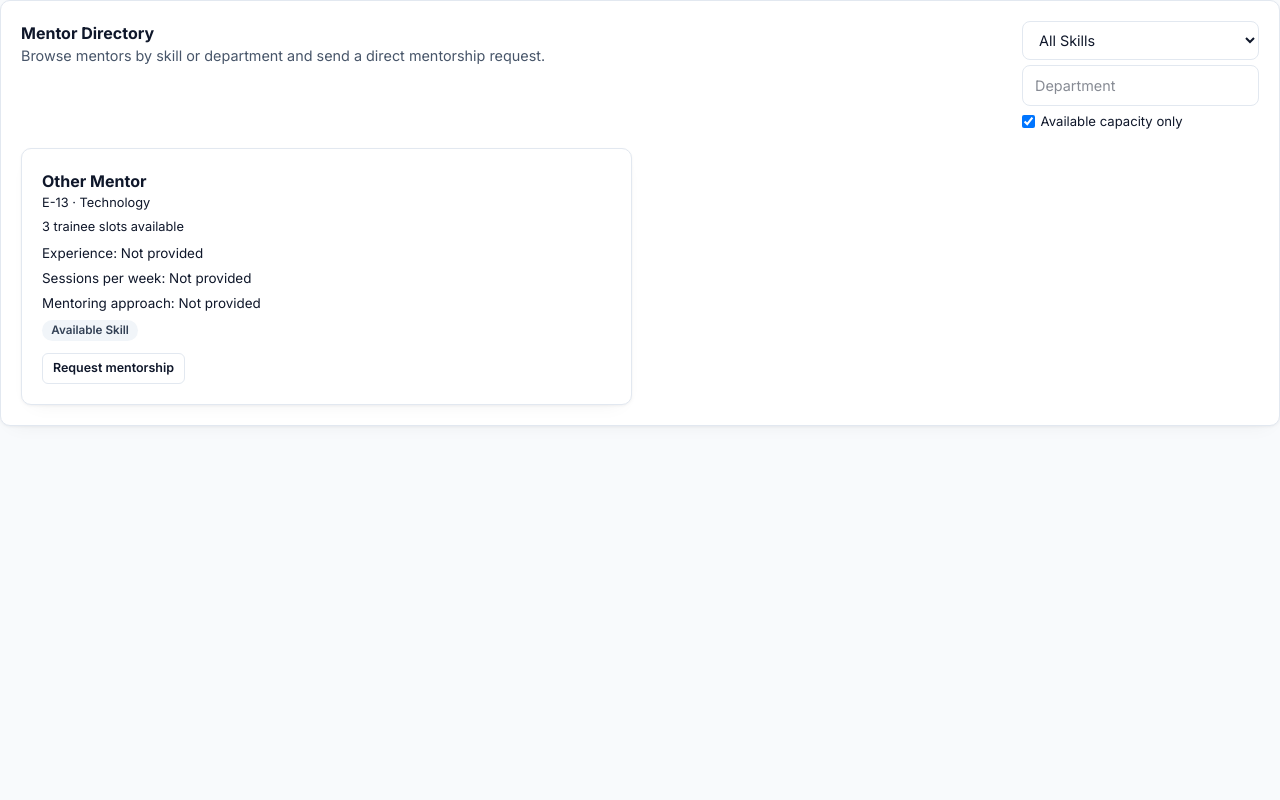
it: Mentor directory self-exclusion › sends an individual mentorship request to the selected mentor
Click the button "Request mentorship".
click(113, 369)  # box [42,353,185,384]
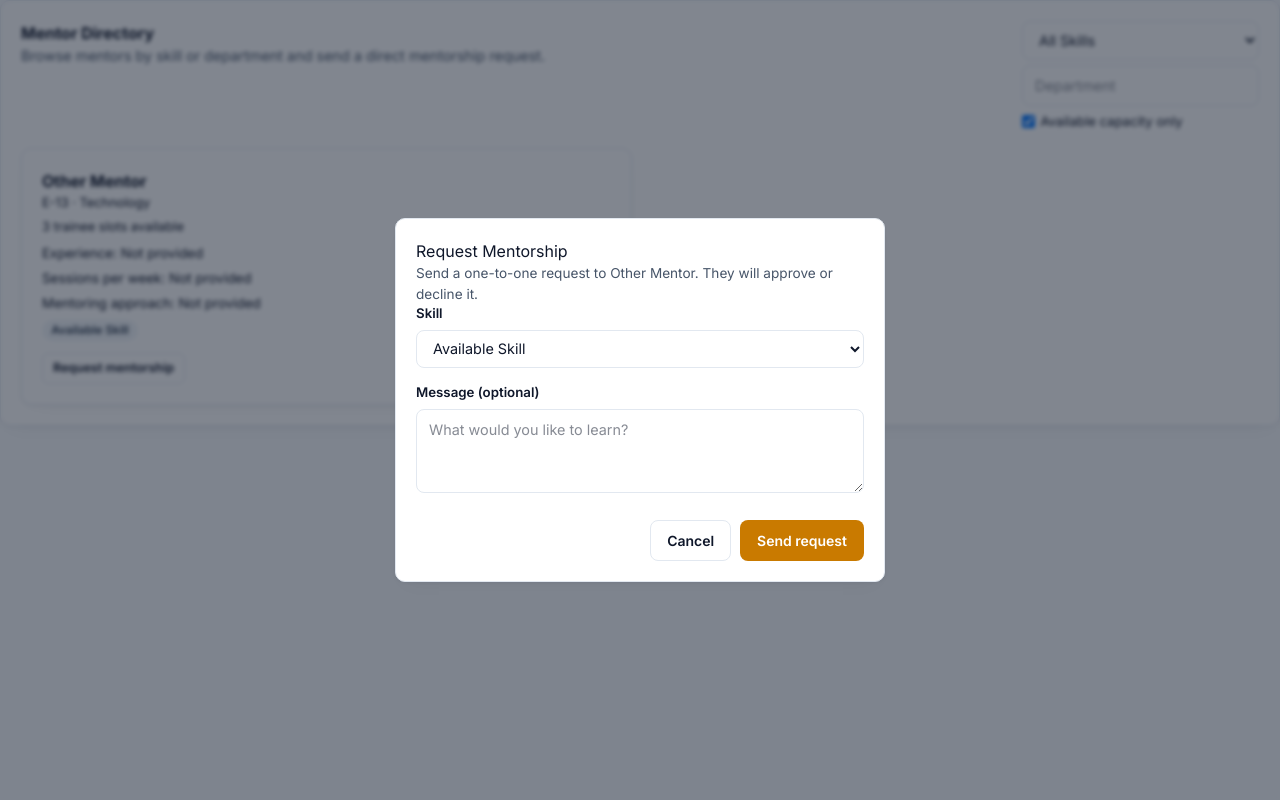
Type "I want to learn this skill." into the text box labelled "Message (optional)".
click(640, 451); type("I want to learn this skill.")  # box [416,409,864,493]
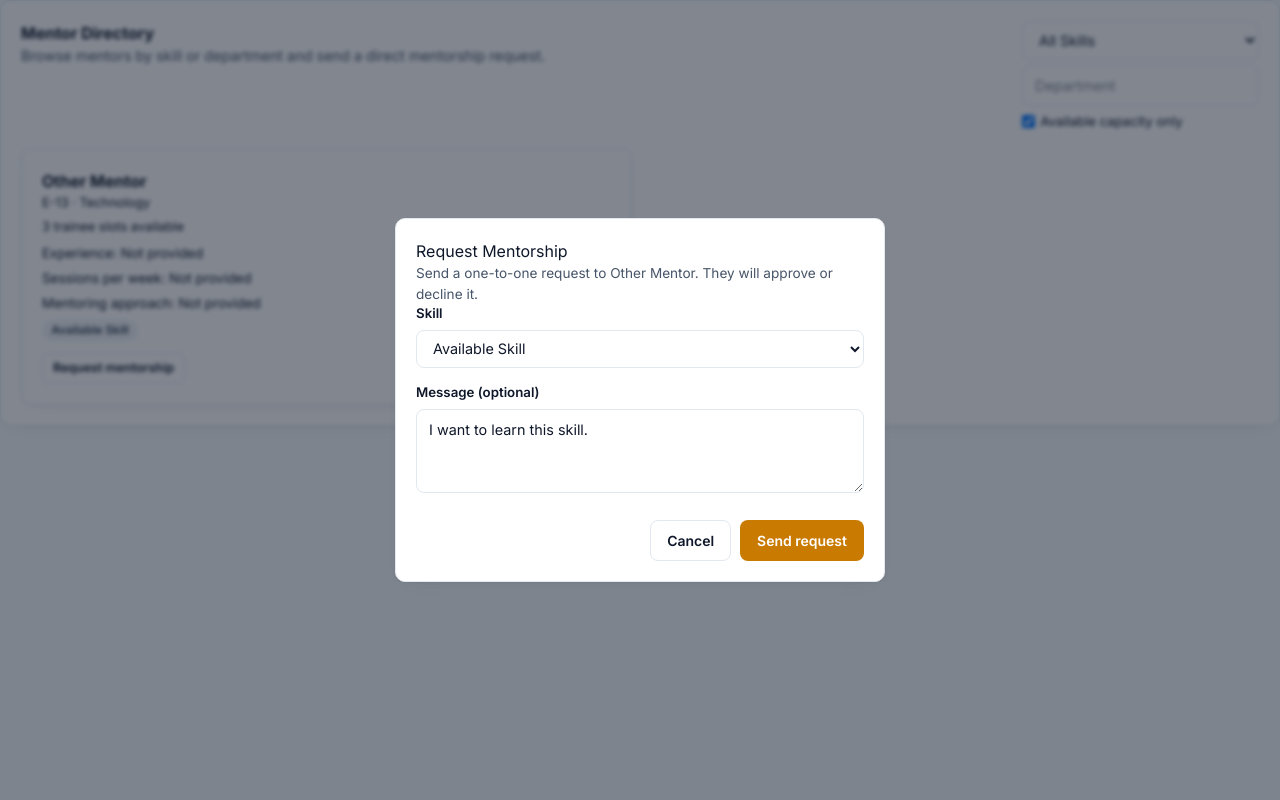
Click the button "Send request".
click(802, 541)  # box [740,520,864,561]
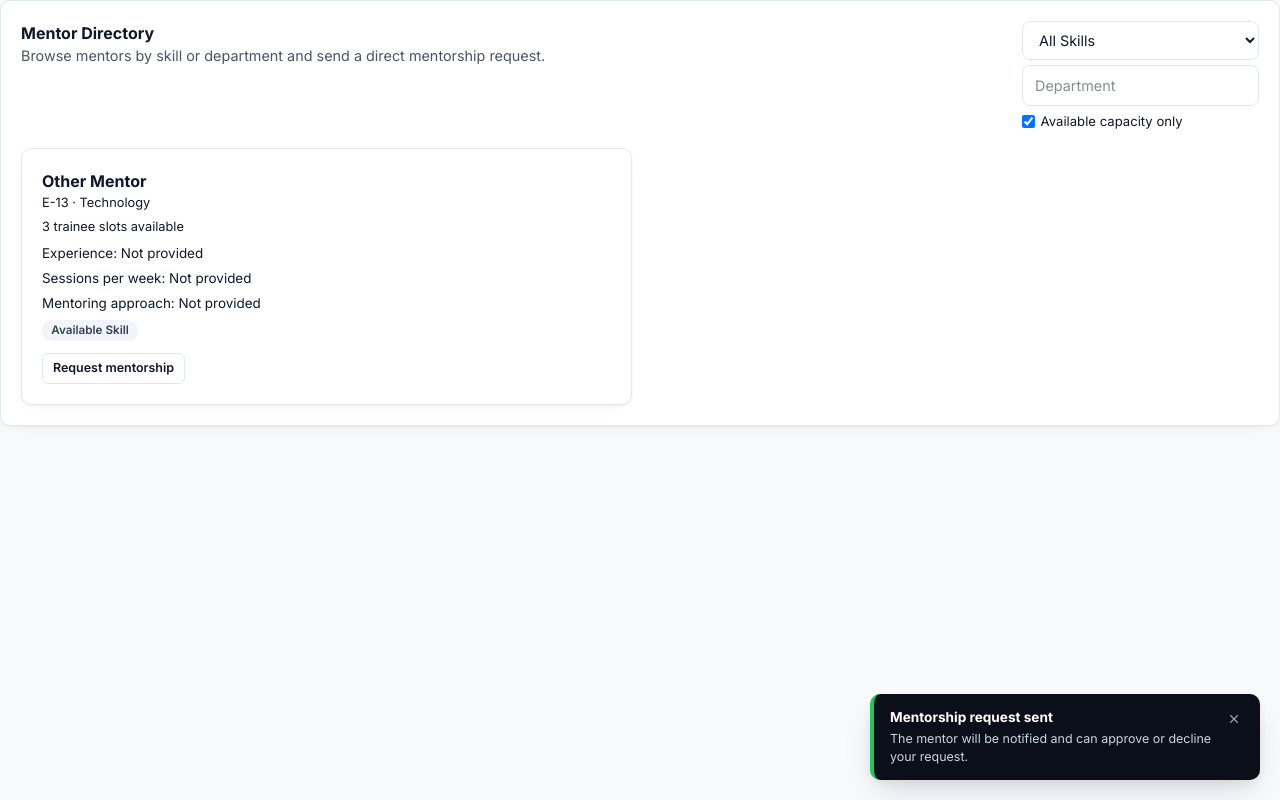
expect the text "Mentorship request sent" is shown: met, box [890,709,1053,725]
